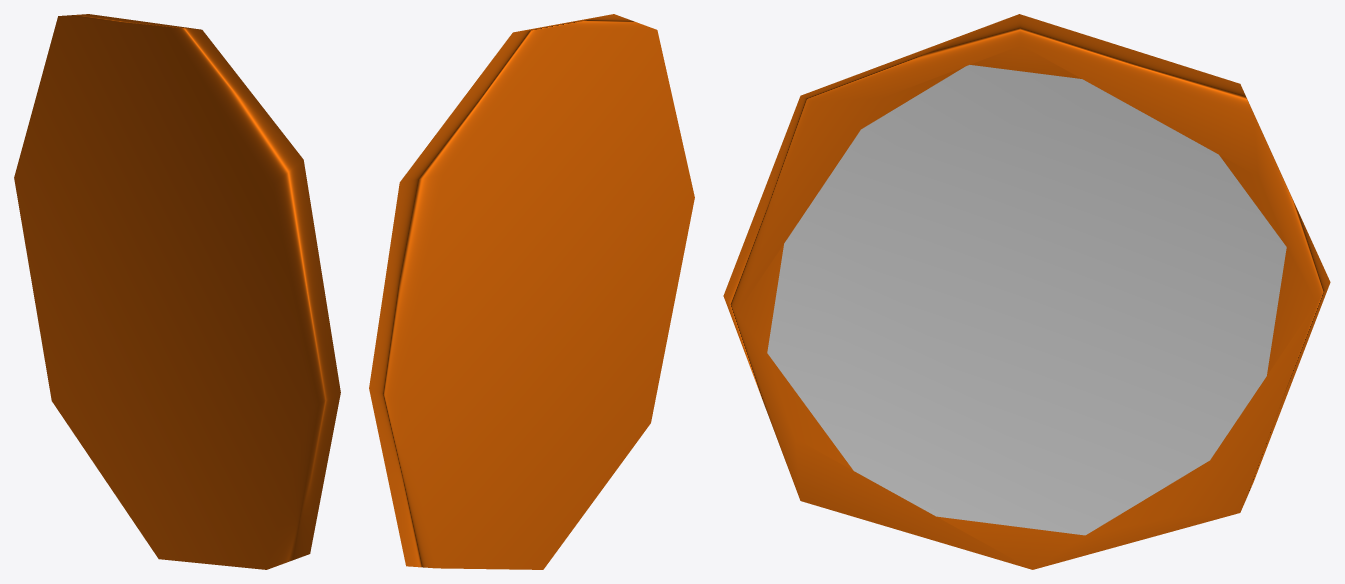
The model's file is ESPEJORREGIDA.fbx.
3 renders of one model, left to right at view 1: azimuth 30°, elevation 25°; view 2: azimuth 150°, elevation 25°; view 3: azimuth 270°, elevation 25°, orthographic. The views are drawn at different scales.
Visible parts, largest first — view 1: Cilindro.004; view 2: Cilindro.004; view 3: Cilindro.004.
Part boxes in pixels (x1,y1,x2,y2): Cilindro.004: (14, 14, 340, 569); Cilindro.004: (369, 14, 694, 569); Cilindro.004: (723, 14, 1330, 569).
Bounding box in the file's own units: 20.43 × 283 × 283.
